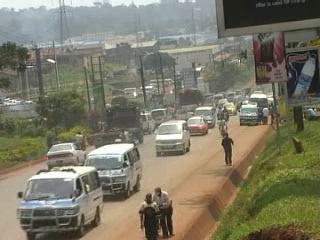Car: (153, 118, 193, 157), (44, 140, 89, 171), (185, 114, 207, 135), (221, 103, 237, 118)
Motorcycle: (73, 130, 88, 153), (118, 129, 134, 148), (215, 117, 229, 137), (215, 105, 223, 122), (184, 109, 195, 121), (222, 104, 229, 122)
